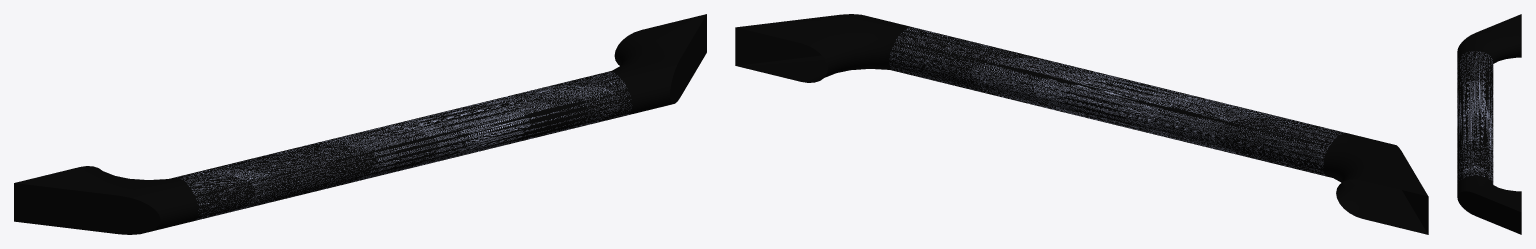
Rendered from original-2.obj.
3 views of the same model, side by side, from view 1: azimuth 30°, elevation 25°; view 2: azimuth 150°, elevation 25°; view 3: azimuth 270°, elevation 25° (orthographic). The views are drawn at different scales.
Parts seen in each view (by area): view 1: Component_24_1/Component_24/mesh1/mesh1-geometry#mesh1-geometry; view 2: Component_24_1/Component_24/mesh1/mesh1-geometry#mesh1-geometry; view 3: Component_24_1/Component_24/mesh1/mesh1-geometry#mesh1-geometry.
Boxes of the visible parts, left/top/right/bottom form: Component_24_1/Component_24/mesh1/mesh1-geometry#mesh1-geometry: left=14, top=14, right=706, bottom=234; Component_24_1/Component_24/mesh1/mesh1-geometry#mesh1-geometry: left=735, top=14, right=1428, bottom=234; Component_24_1/Component_24/mesh1/mesh1-geometry#mesh1-geometry: left=1457, top=14, right=1521, bottom=234.
Size of the model in its own units: 0.7813 by 0.0415 by 0.107.
